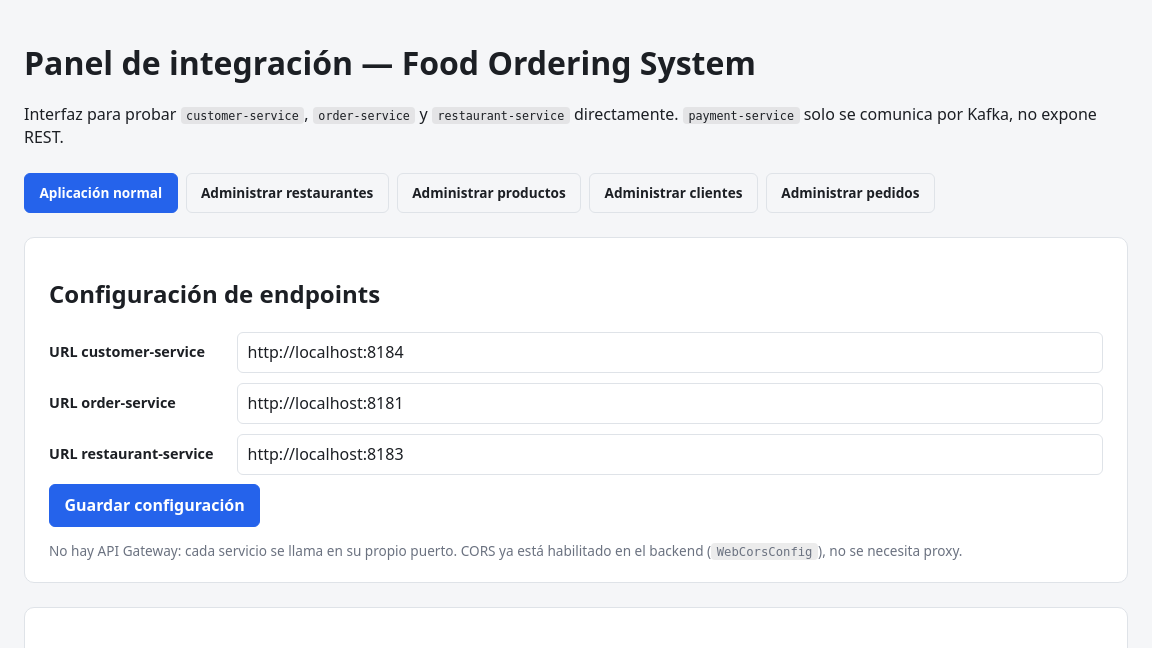
Scenario: App › switching tabs hides the normal-application forms and shows the selected admin section
The image size is (1152, 648).
What coordinates should you click on to do the following:
click the button "Administrar restaurantes"
I would click on:
 (287, 193)
Its box is left=186, top=173, right=389, bottom=212.
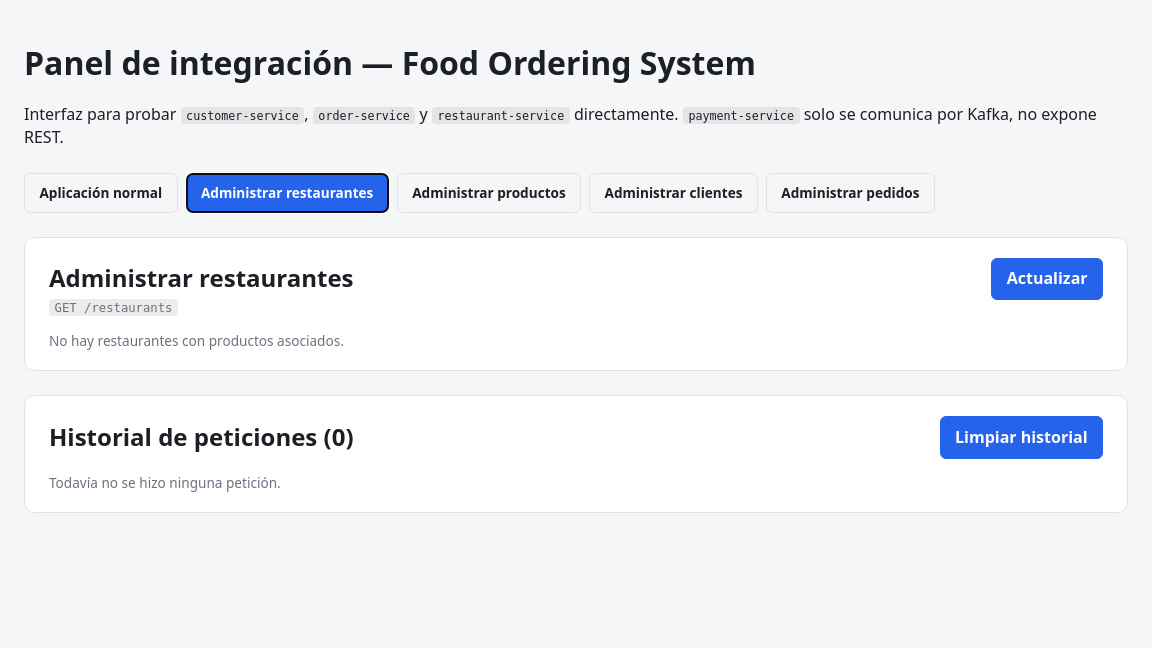
expect the text "1. Crear cliente" is not shown: met
expect the heading "Administrar restaurantes" is shown: met, box left=49, top=262, right=354, bottom=296
What coordinates should you click on to do the following:
click the button "Aplicación normal"
I would click on:
 (101, 193)
Its box is left=24, top=173, right=178, bottom=212.
(page scrolled)
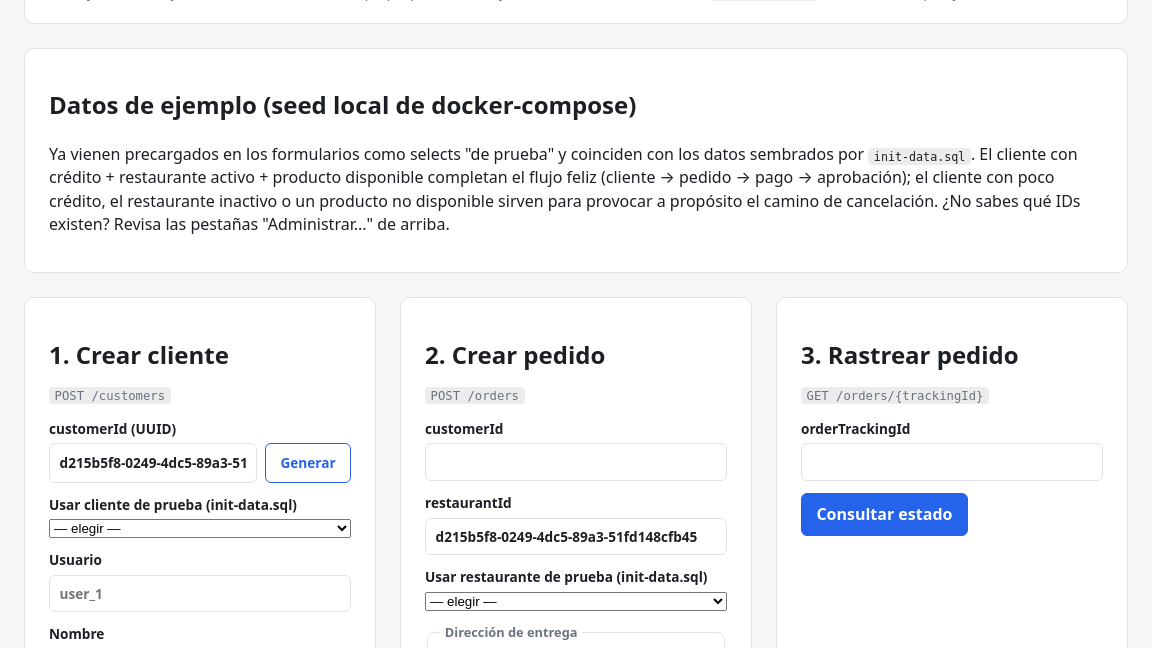
expect the heading "1. Crear cliente" is shown: met, box left=49, top=338, right=229, bottom=371
